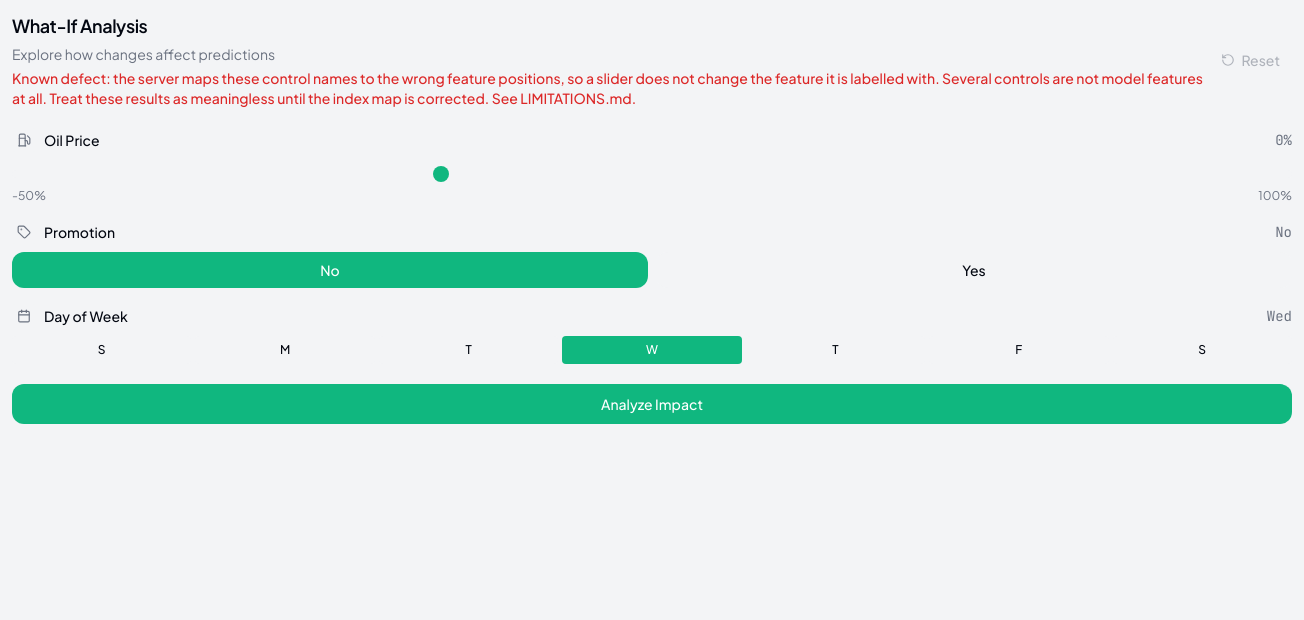
Test: WhatIfAnalysis › displays results after successful analysis
Click the button "Analyze Impact": (652, 404) left=12, top=384, right=1292, bottom=424
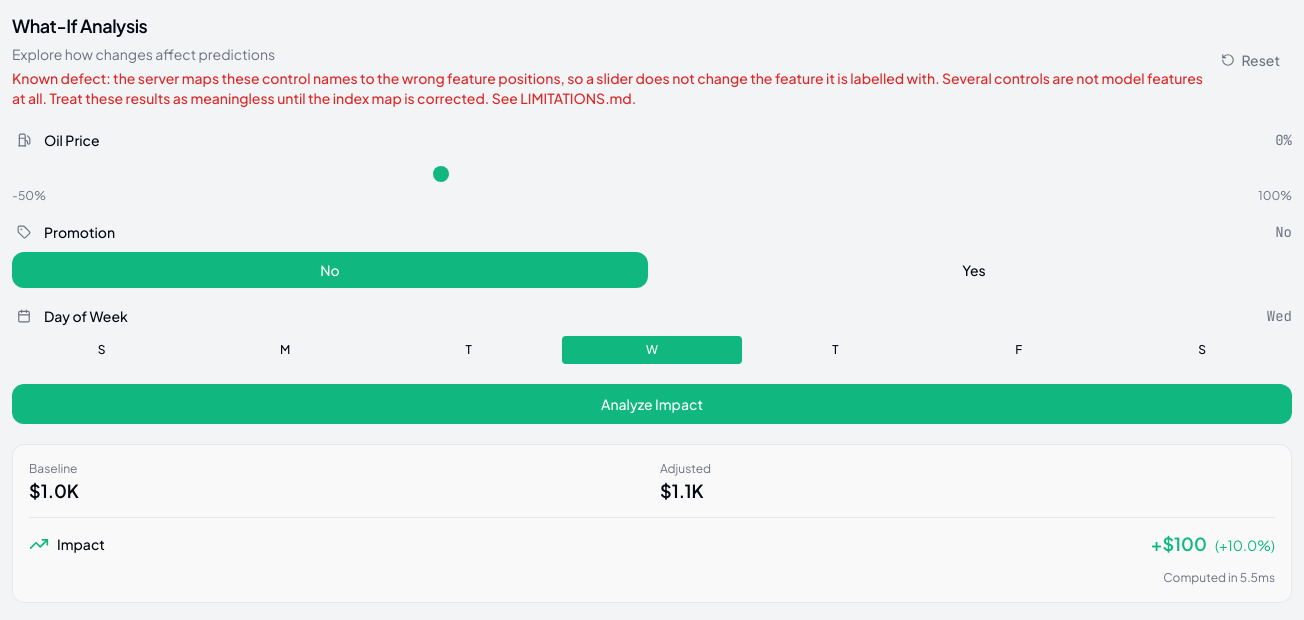
Expected: the text "Baseline" is shown, left=29, top=461, right=77, bottom=476
Expected: the text "Adjusted" is shown, left=660, top=461, right=711, bottom=476
Expected: the text "Impact" is shown, left=57, top=534, right=105, bottom=554
